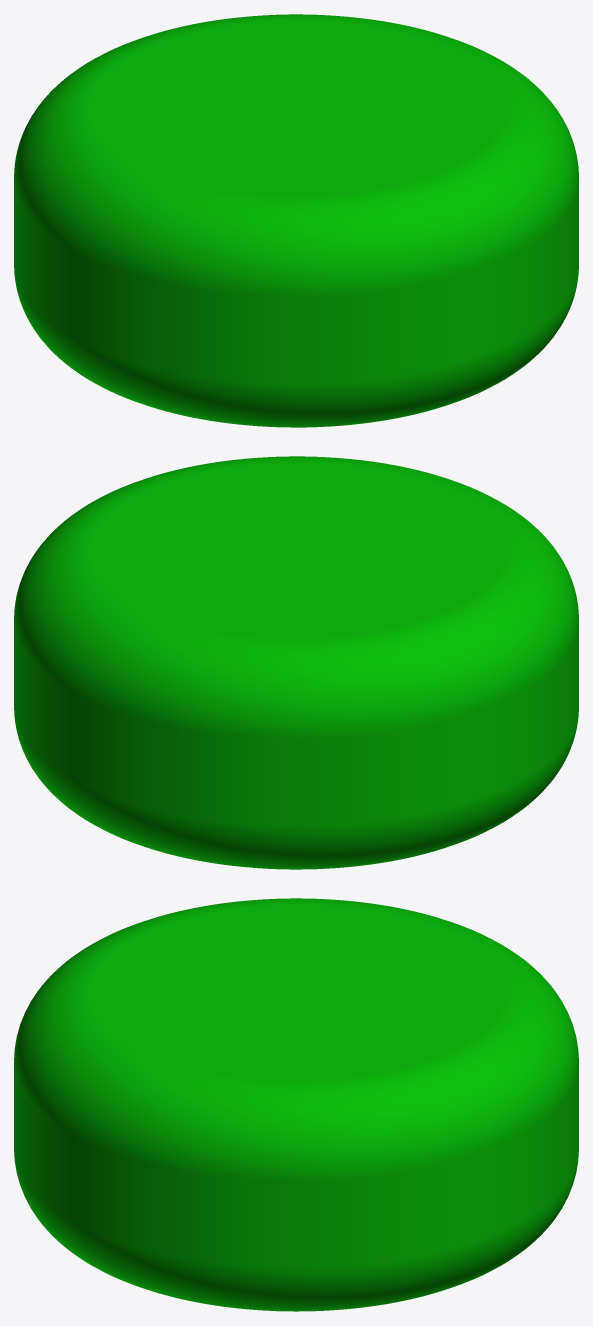
Rendered from OUTFITTING_INTERIOR__EXT. INSTRUMENTS__radar.glb.
3 views of the same model, one above another, from view 1: azimuth 30°, elevation 25°; view 2: azimuth 150°, elevation 25°; view 3: azimuth 270°, elevation 25° (orthographic).
Parts seen in each view (by area): view 1: radar; view 2: radar; view 3: radar.
Part boxes in pixels (x1,y1,x2,y2): radar: (14, 14, 578, 427); radar: (14, 456, 578, 869); radar: (14, 898, 578, 1311).
Bounding box in the file's own units: 0.51 × 0.2235 × 0.51.
